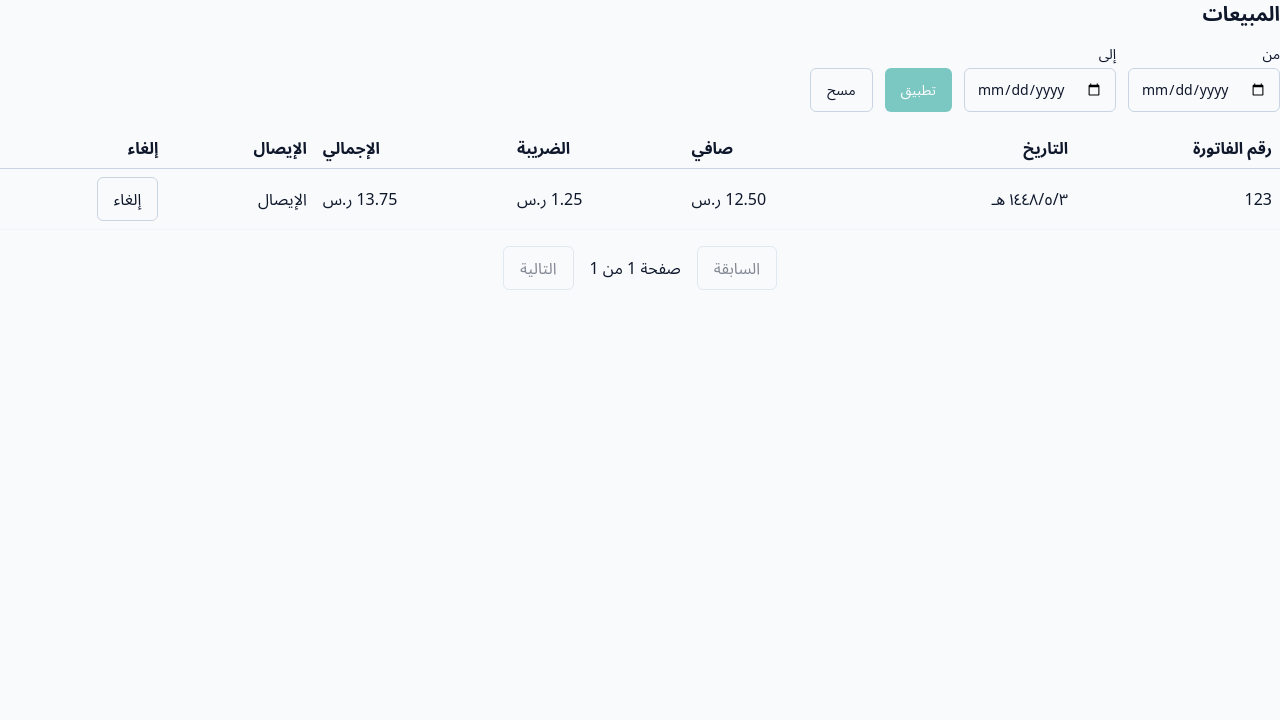
Test case: VoidSaleDialog › voids a sale successfully (PATCH with no body)
The width and height of the screenshot is (1280, 720).
Check: the column heading "رقم الفاتورة" is shown, box x1=1076 y1=128 x2=1279 y2=168
Open the void dialog
Click the button "إلغاء" at coordinates (128, 199), box x1=97 y1=177 x2=158 y2=221
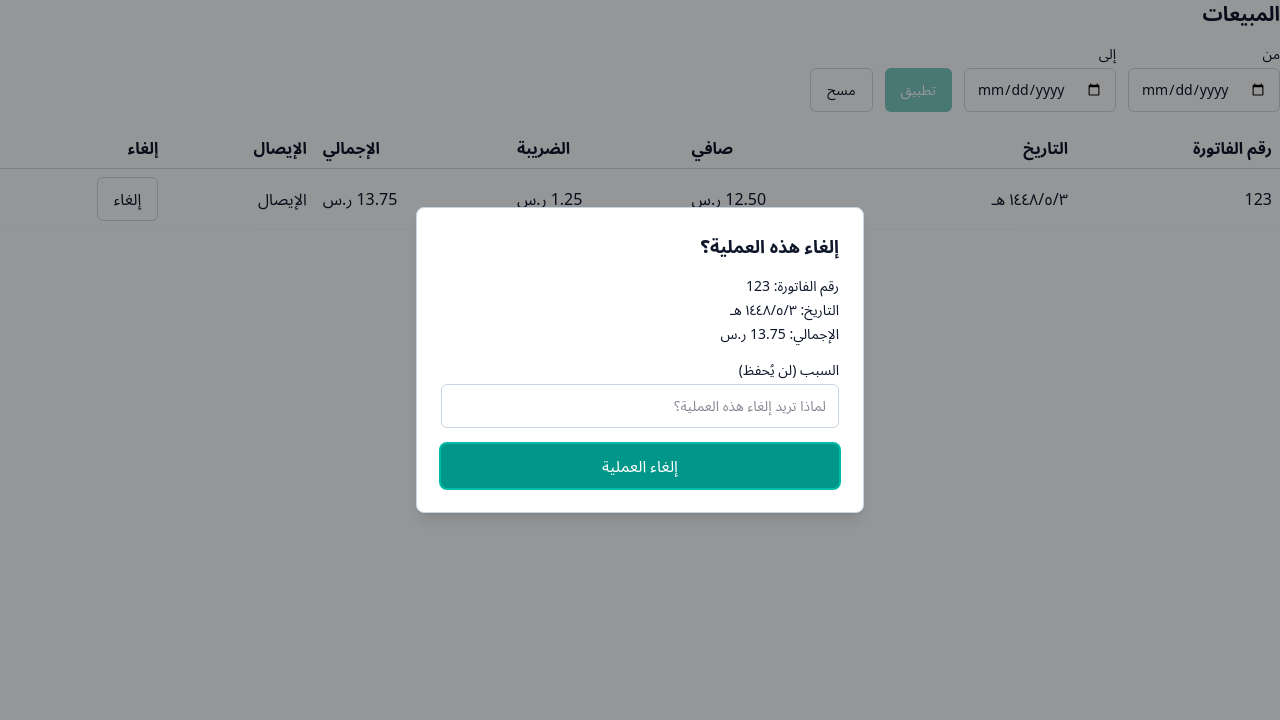
Check: the dialog is shown, box x1=416 y1=207 x2=864 y2=513
Type a reason (should NOT be sent to the API)
Type "Customer complaint" into the field labelled "السبب (لن يُحفظ)" at coordinates (640, 406), box x1=441 y1=384 x2=839 y2=428
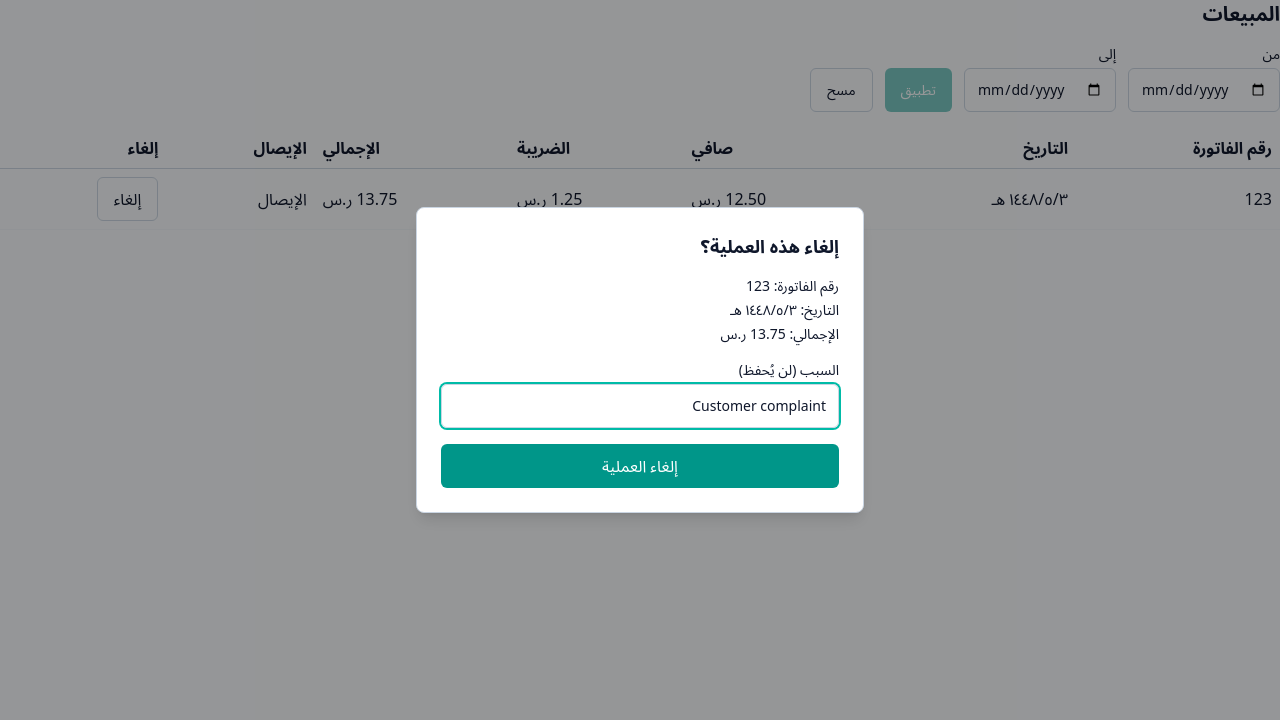
Click the button "إلغاء العملية" at coordinates (640, 466), box x1=441 y1=444 x2=839 y2=488
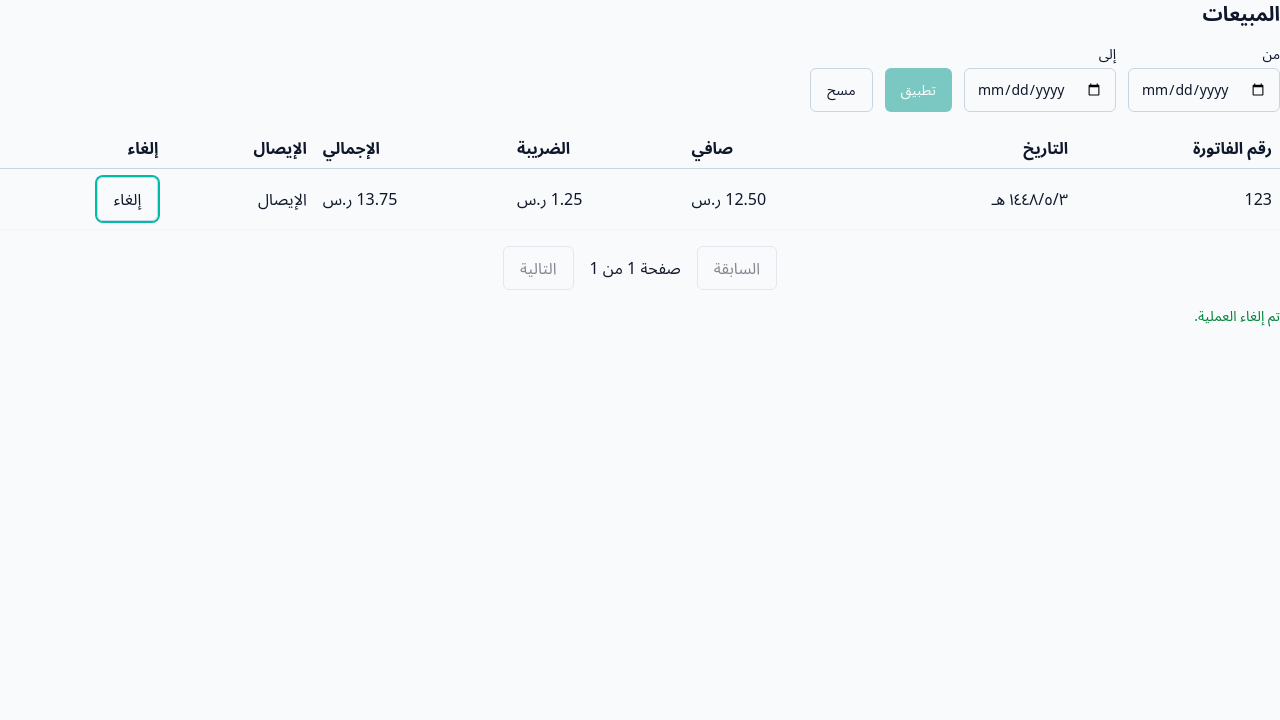
Check: the text "تم إلغاء العملية." is shown, box x1=1194 y1=306 x2=1279 y2=325
Check: the dialog is gone
